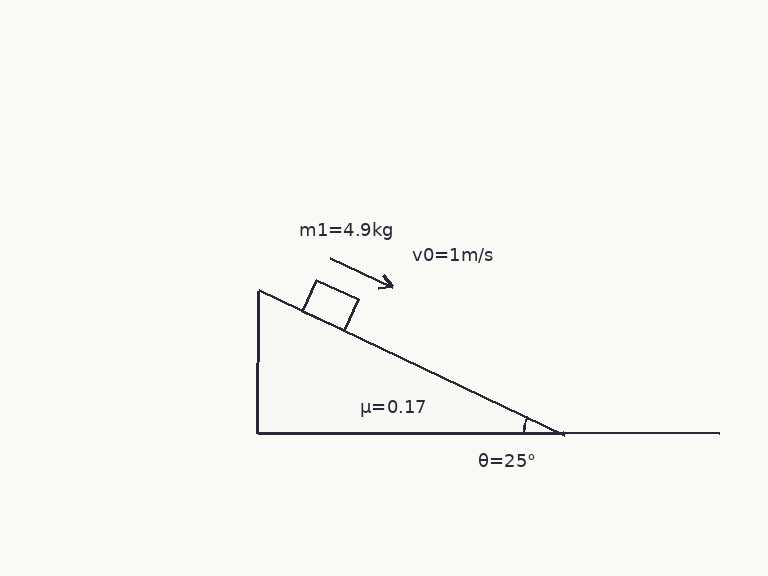block: (300, 278, 360, 332)
ramp: (256, 288, 566, 435)
